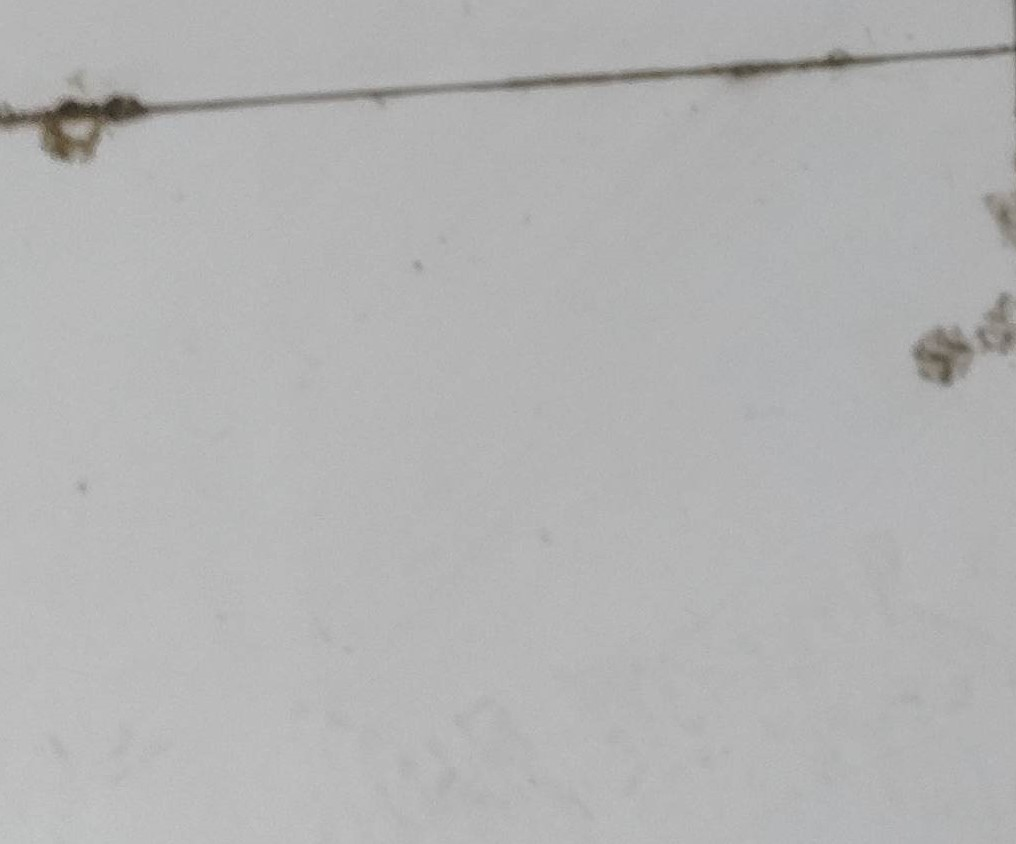grey spot: (30, 91, 148, 163), (908, 324, 972, 388), (976, 289, 1014, 356), (985, 194, 1016, 252)
